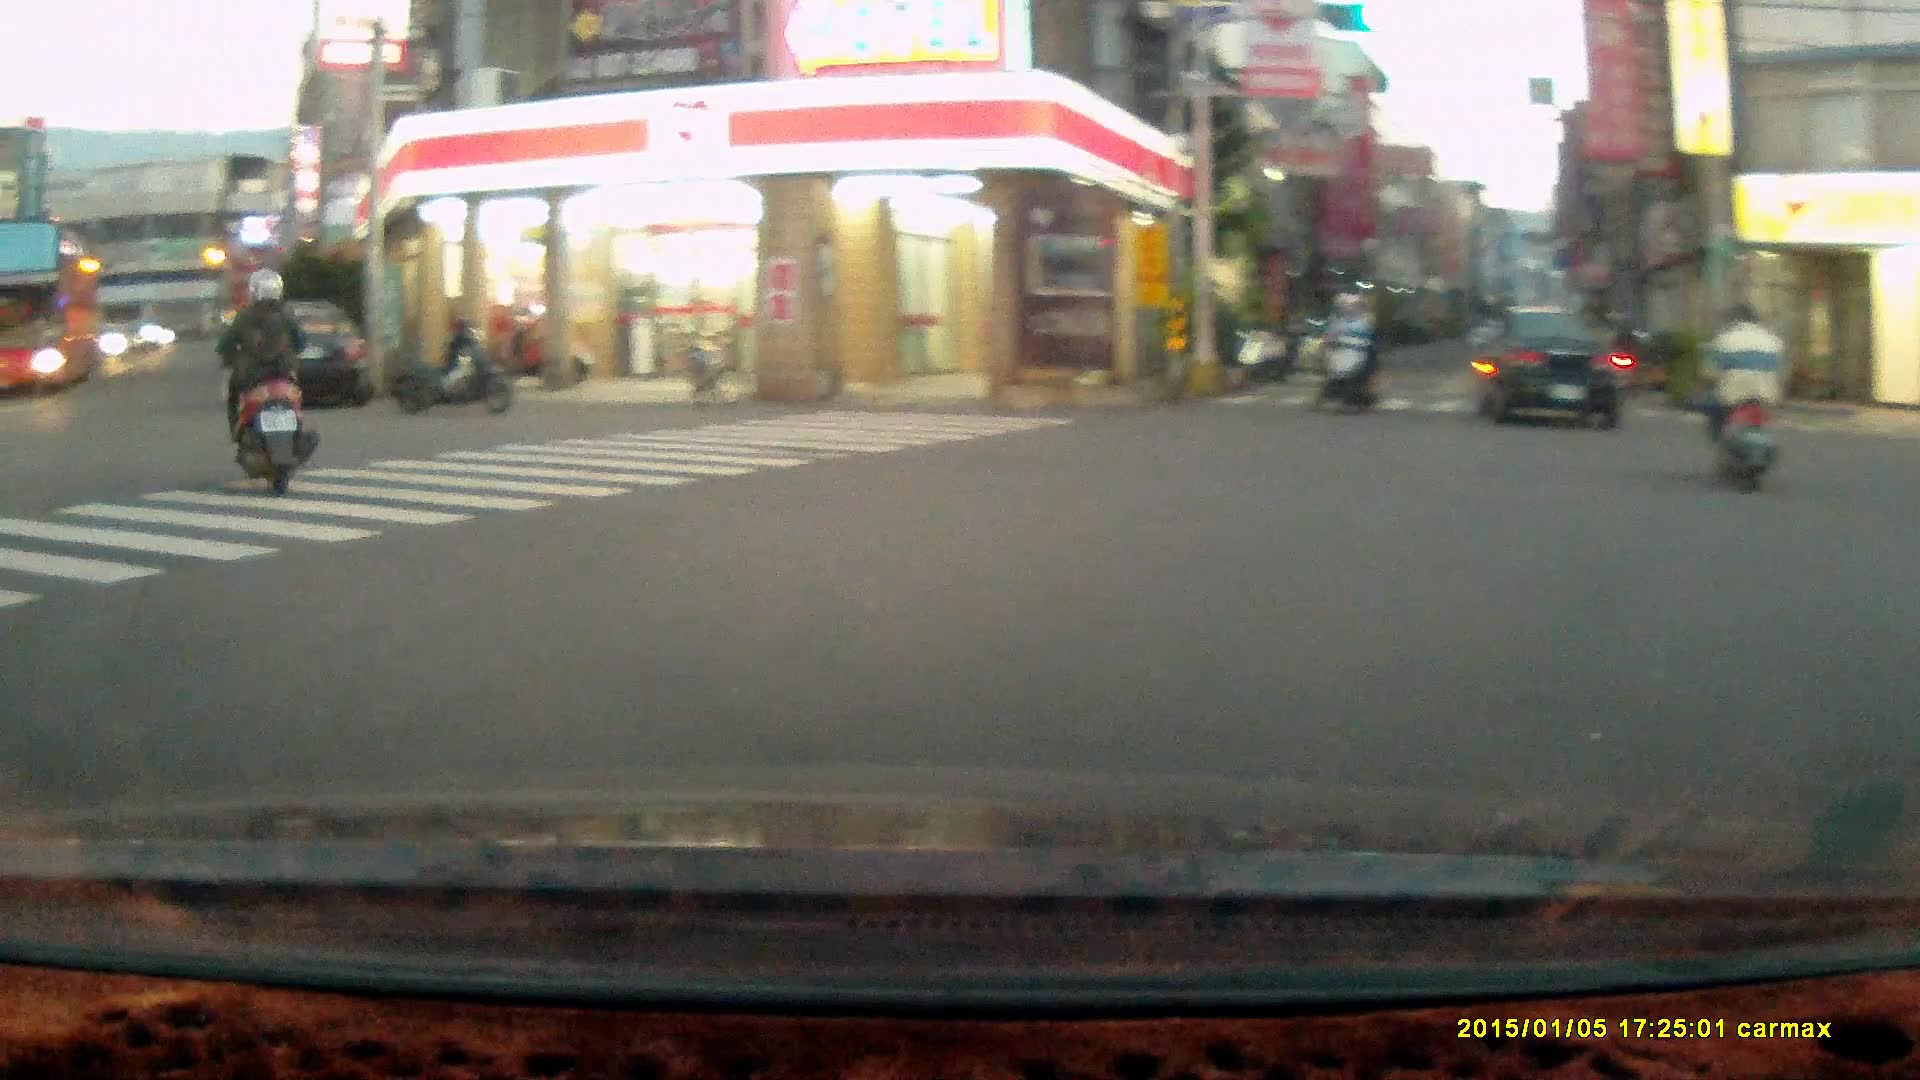rider: (214, 265, 318, 493), (1694, 295, 1789, 494), (1310, 288, 1380, 418)
vehicle: (1471, 304, 1635, 431), (1, 214, 103, 401), (240, 296, 377, 402)
